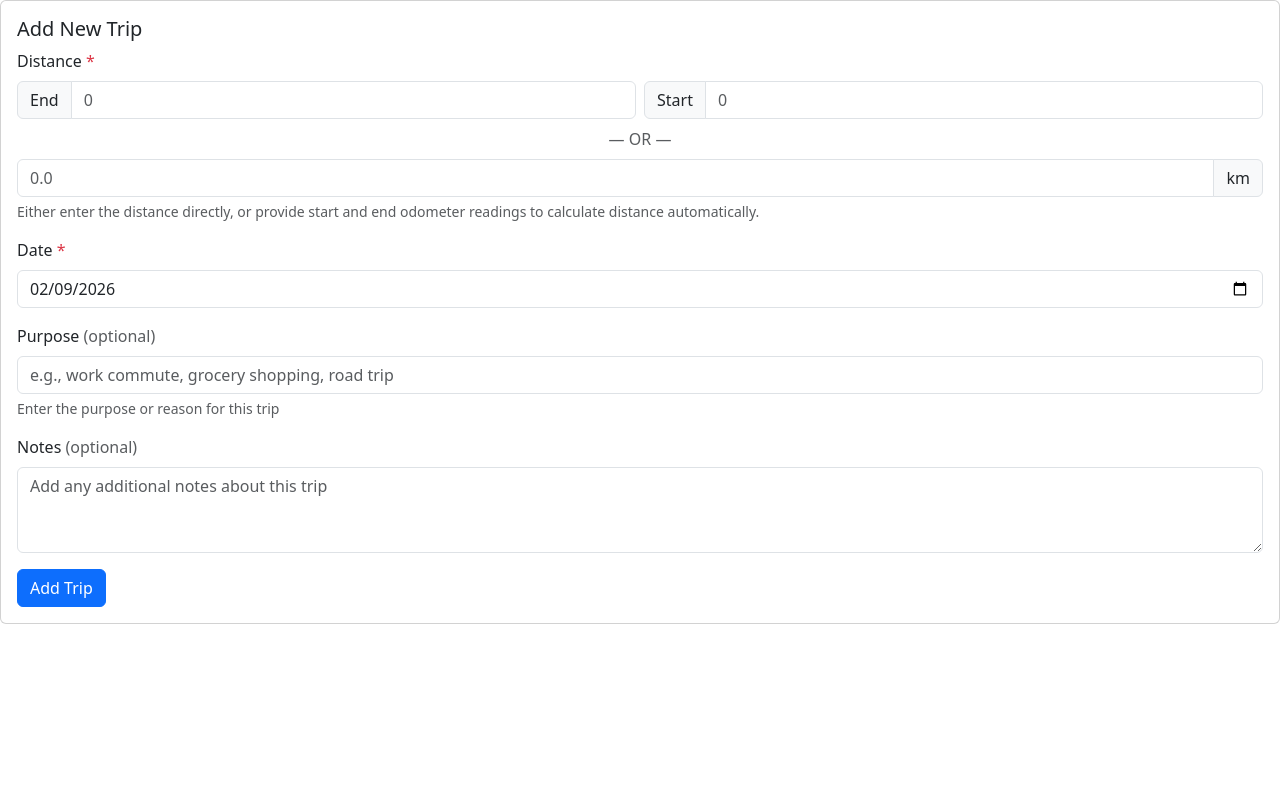
Test case: TripForm › Create Mode › displays validation error for negative distance
This screenshot has width=1280, height=800.
// Fill in required fields
Type "-10" into the number field labelled "Distance *".
click(616, 178); type("-10")  # box [17,159,1214,197]
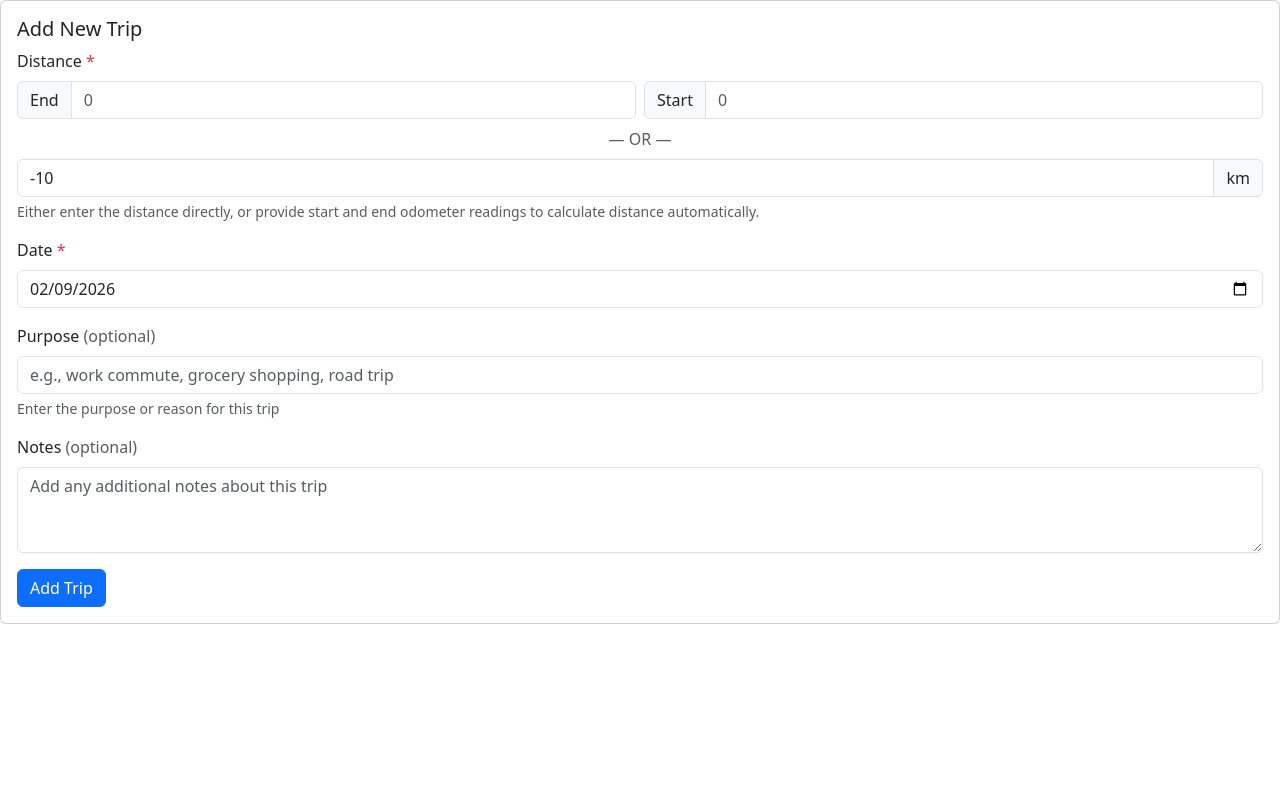
Type "2024-01-15" into the date field labelled "Date *".
click(640, 289); type("2024-01-15")  # box [17,270,1263,308]
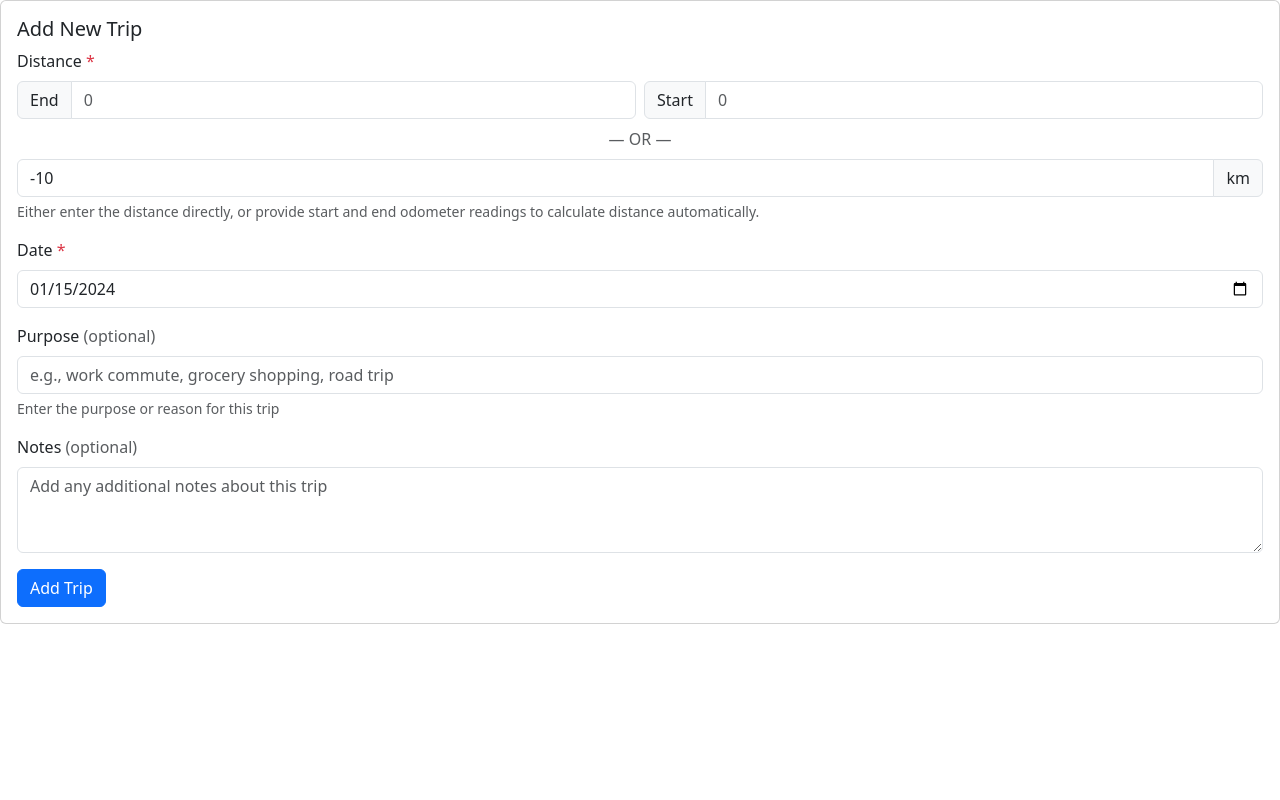
Click the button "Add Trip".
click(61, 588)  # box [17,569,106,607]
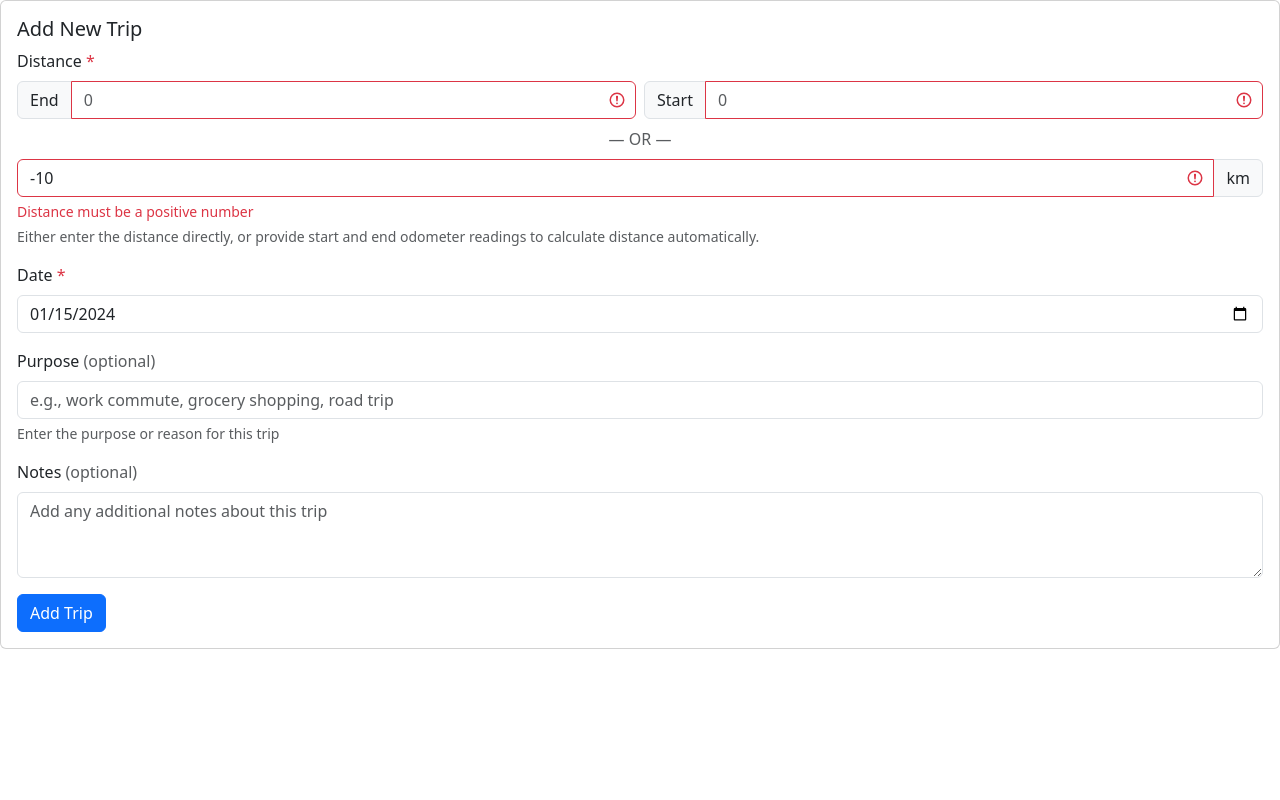
Expected: the text "Distance must be a positive number" is shown, [17,202,254,221]
